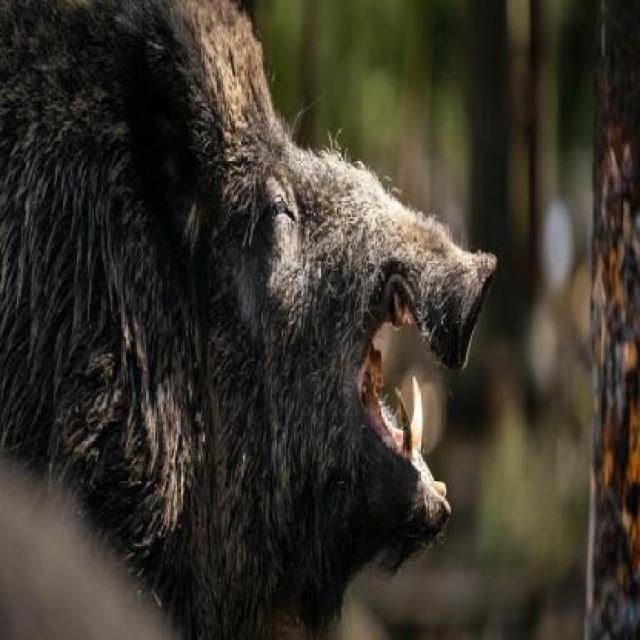wildboar: (0, 0, 505, 640)
